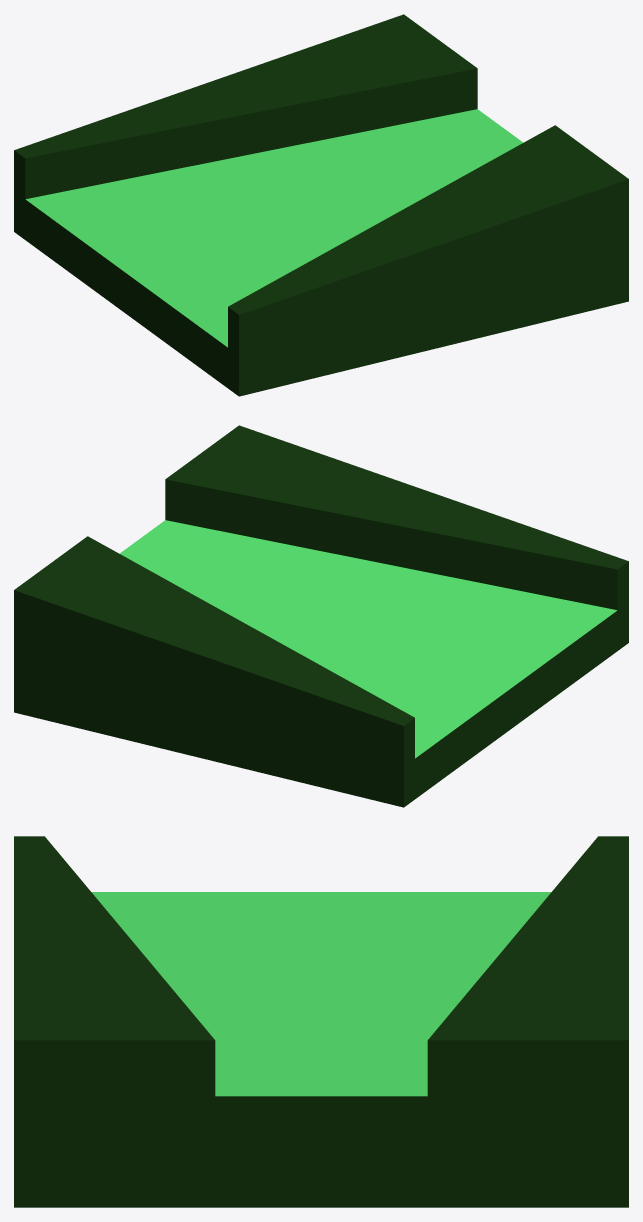
File: MG Ramp Narrow 1.fbx
The picture shows the model from 3 angles, top to bottom: view 1: azimuth 30°, elevation 25°; view 2: azimuth 150°, elevation 25°; view 3: azimuth 270°, elevation 25°; orthographic projection. The views are drawn at different scales.
Visible parts, largest first — view 1: MG Ramp Narrow 1; view 2: MG Ramp Narrow 1; view 3: MG Ramp Narrow 1.
Boxes of the visible parts, x1,y1,x2,y2 form: MG Ramp Narrow 1: [14, 14, 628, 396]; MG Ramp Narrow 1: [14, 425, 628, 807]; MG Ramp Narrow 1: [14, 836, 628, 1207].
Bounding box in the file's own units: 200 × 60 × 200.
